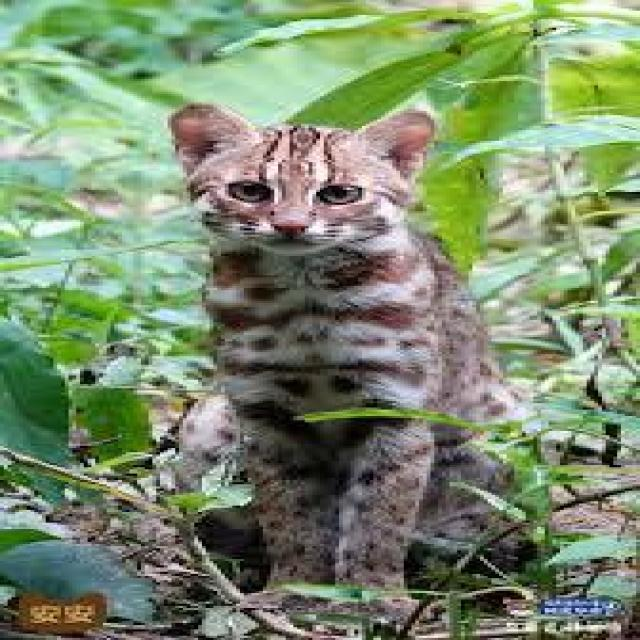leopard: (137, 90, 580, 635)
